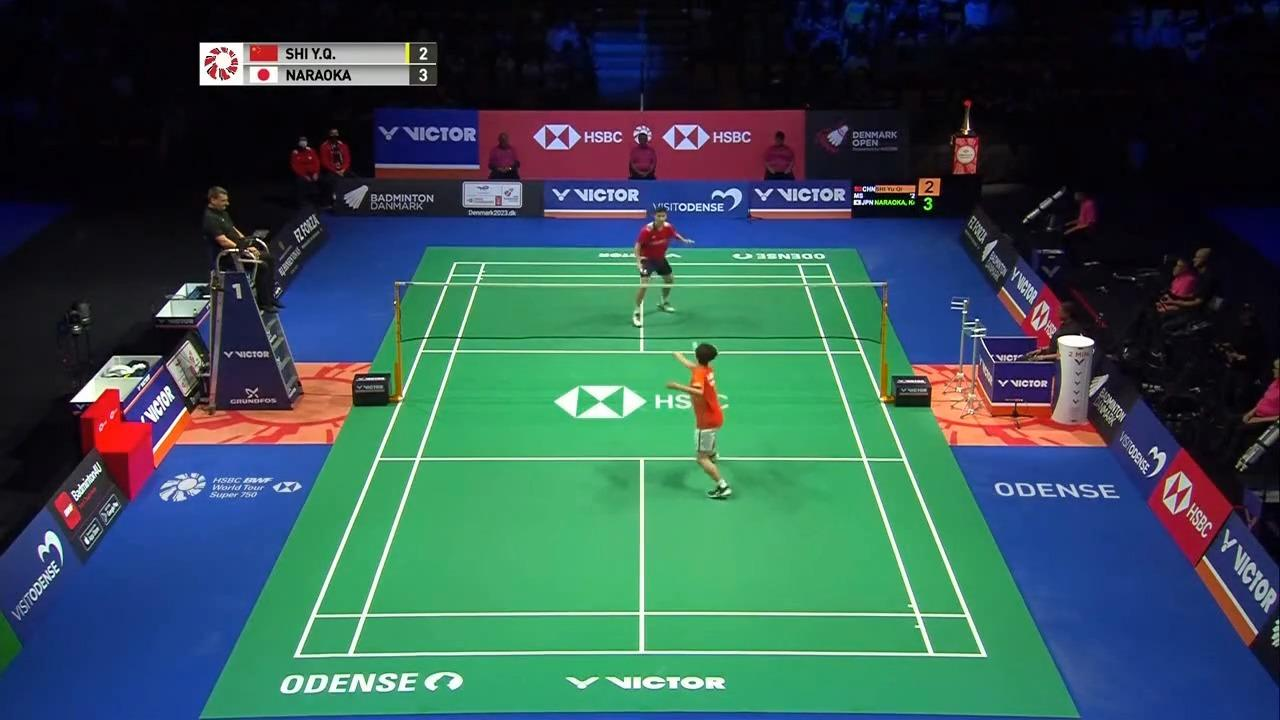shuttle: (689, 337, 699, 347)
